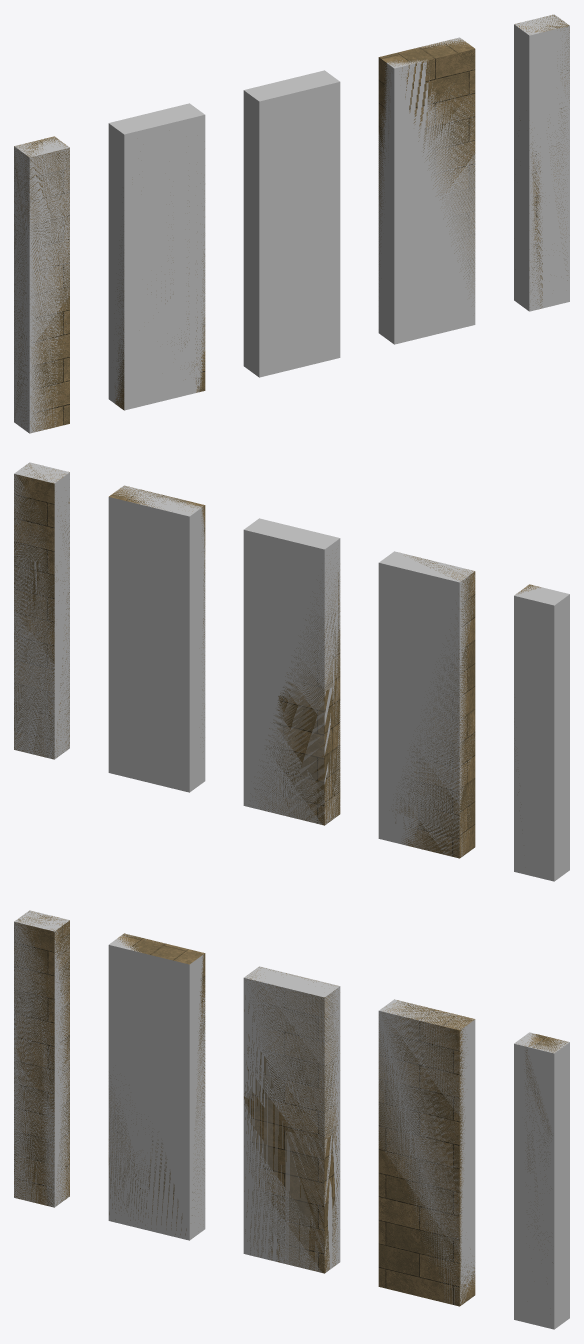
File: crenationHoardings.fbx
The picture shows the model from 3 angles, top to bottom: view 1: azimuth 30°, elevation 25°; view 2: azimuth 150°, elevation 25°; view 3: azimuth 330°, elevation 25°; orthographic projection.
Parts seen in each view (by area): view 1: ramparts_sgv5sgha (×2); view 2: ramparts_sgv5sgha (×2); view 3: ramparts_sgv5sgha (×2).
Boxes of the visible parts, left/top/right/bottom form: ramparts_sgv5sgha (×2): left=14, top=14, right=569, bottom=433; ramparts_sgv5sgha (×2): left=14, top=462, right=569, bottom=881; ramparts_sgv5sgha (×2): left=14, top=910, right=569, bottom=1329.
Size of the model in its own units: 719 by 351 by 35.94.
